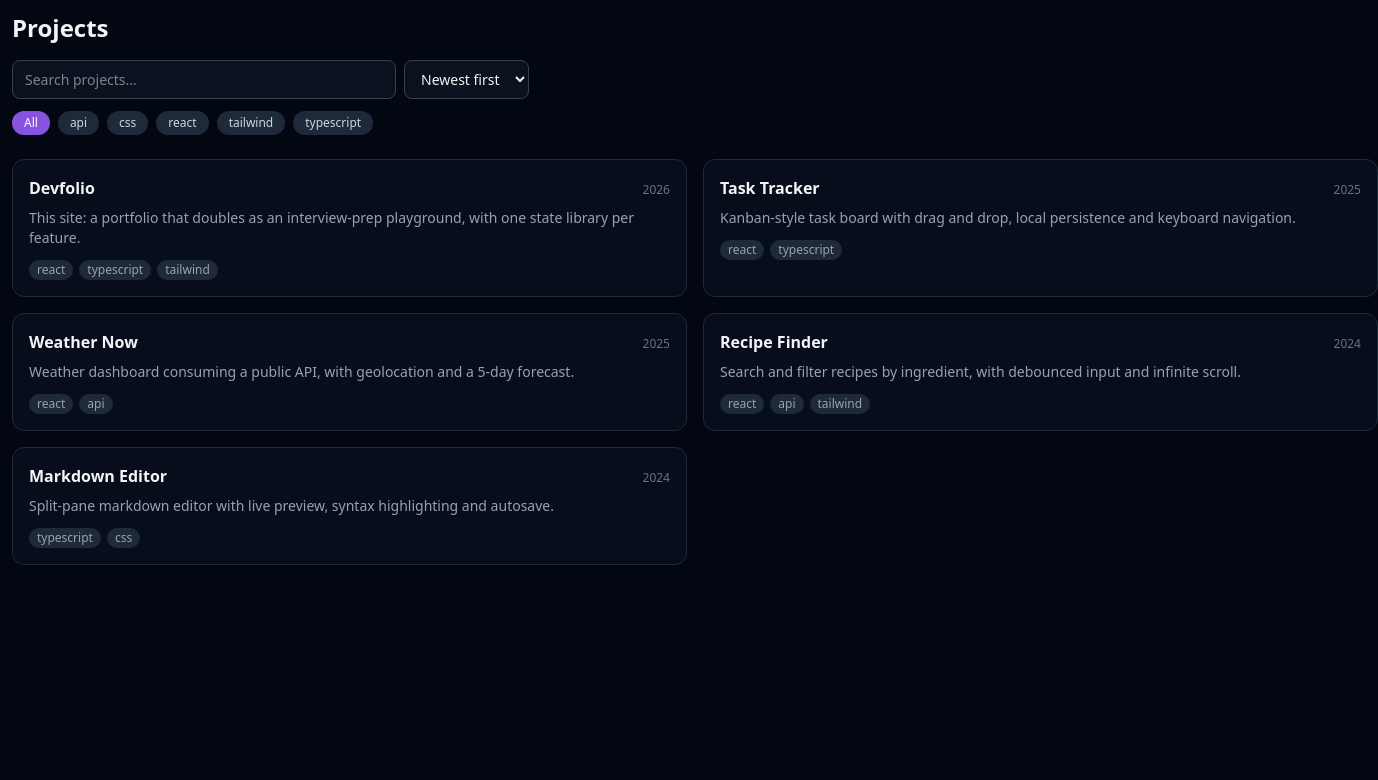
<ProjectsPage /> › filters projects by tag
The image size is (1378, 780).
Click the button "api" at (78, 123), box [58,111,99,135]
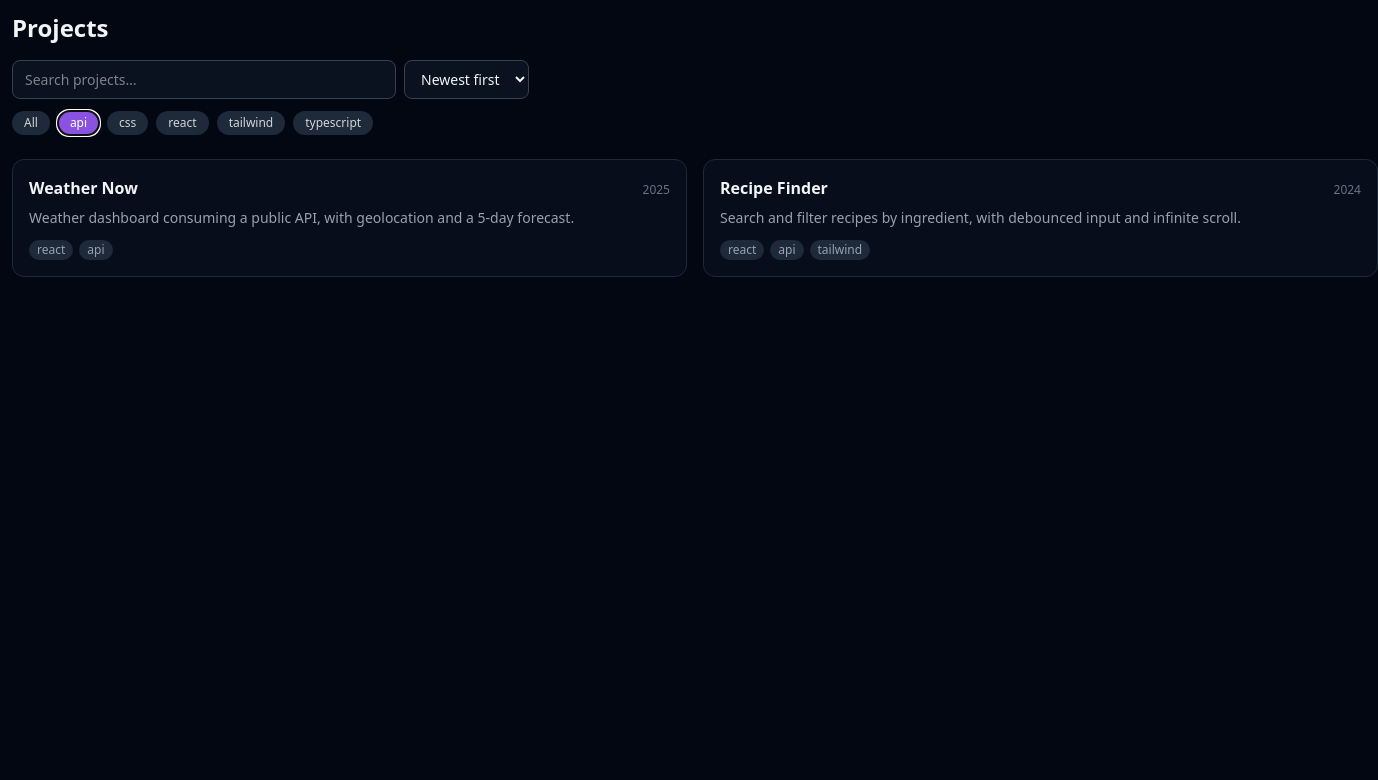
Result: the number of list items is 2 at [12,159,687,277]; [703,159,1377,277]
